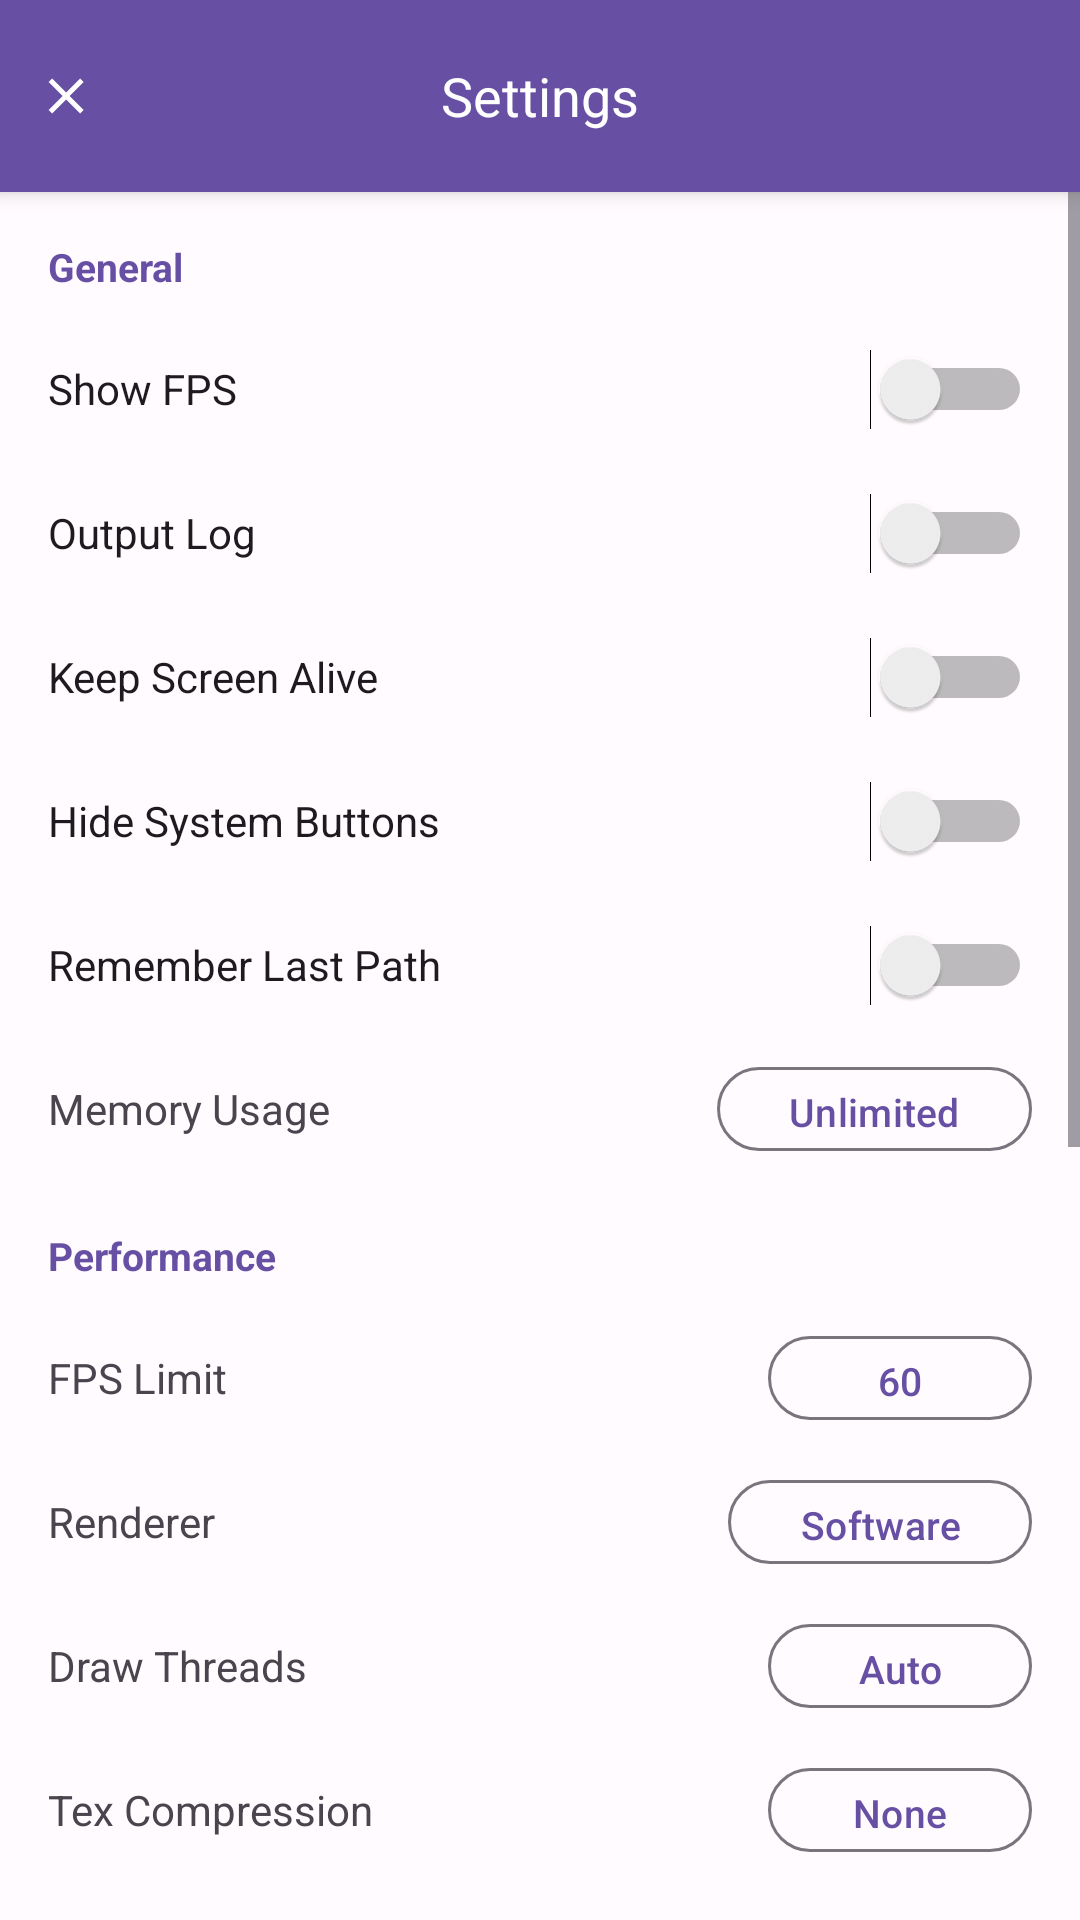

Named icons in this screenshot (1080w x 1920h) and their centers, [x,y]:
close: [66,96]
